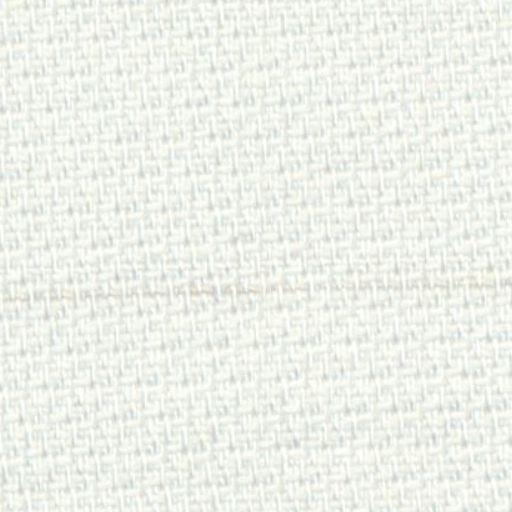WuZi: (20, 274, 444, 303)
